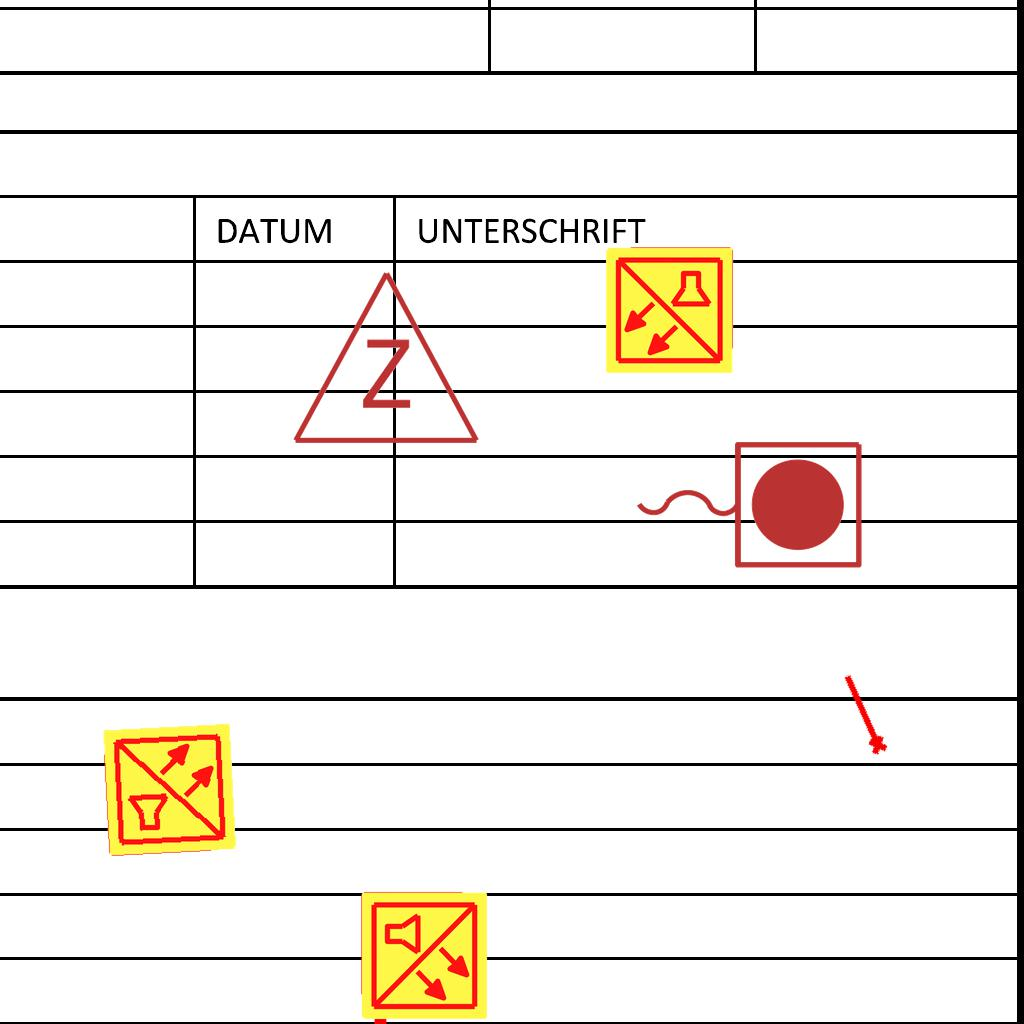ASR_Ansaugoeffnung: (353, 886, 407, 1024), (834, 669, 892, 760)
OKW_Multisensormelder_(Kombination_optischer_Rauch-Kahlenmonoxid_Waerme-Melder): (100, 720, 240, 860), (603, 244, 735, 376), (358, 890, 490, 1022)
Zimmersignalleuchte: (286, 258, 482, 458)
Zugtaster: (626, 431, 870, 575)
